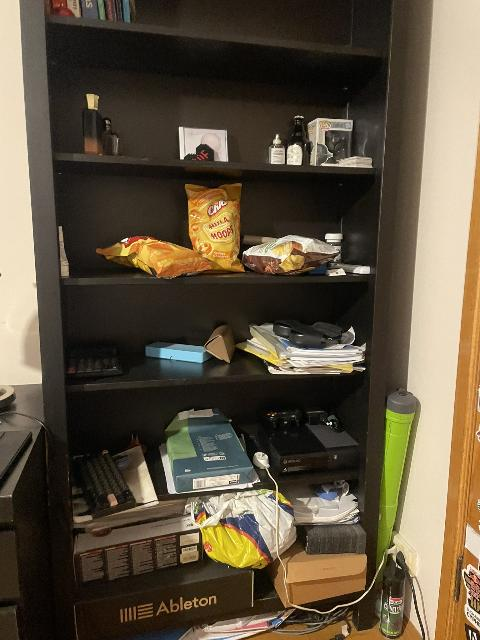Chio Cascaval 125g: (95, 236, 213, 279)
Chio Hula Hoops Cheese 70g: (187, 182, 246, 273)
Lays Beef Grilled Ribs 125g: (240, 234, 342, 275)
